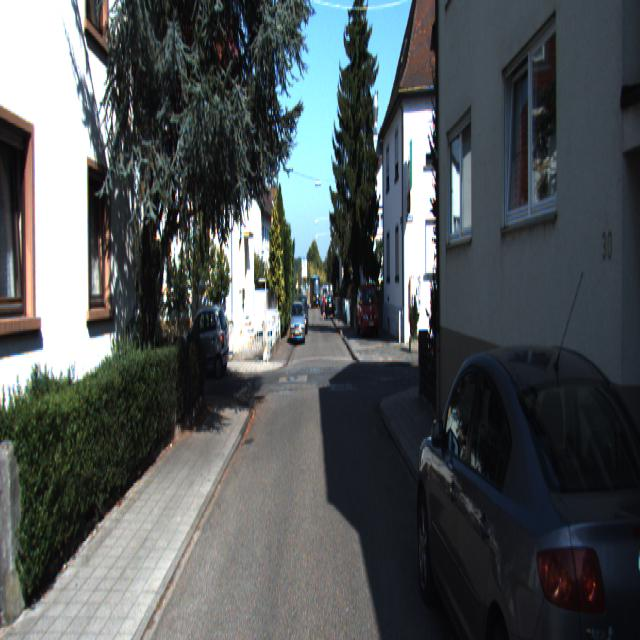Car: (412, 321, 640, 638), (176, 300, 228, 376), (356, 282, 379, 340), (290, 302, 304, 347)
